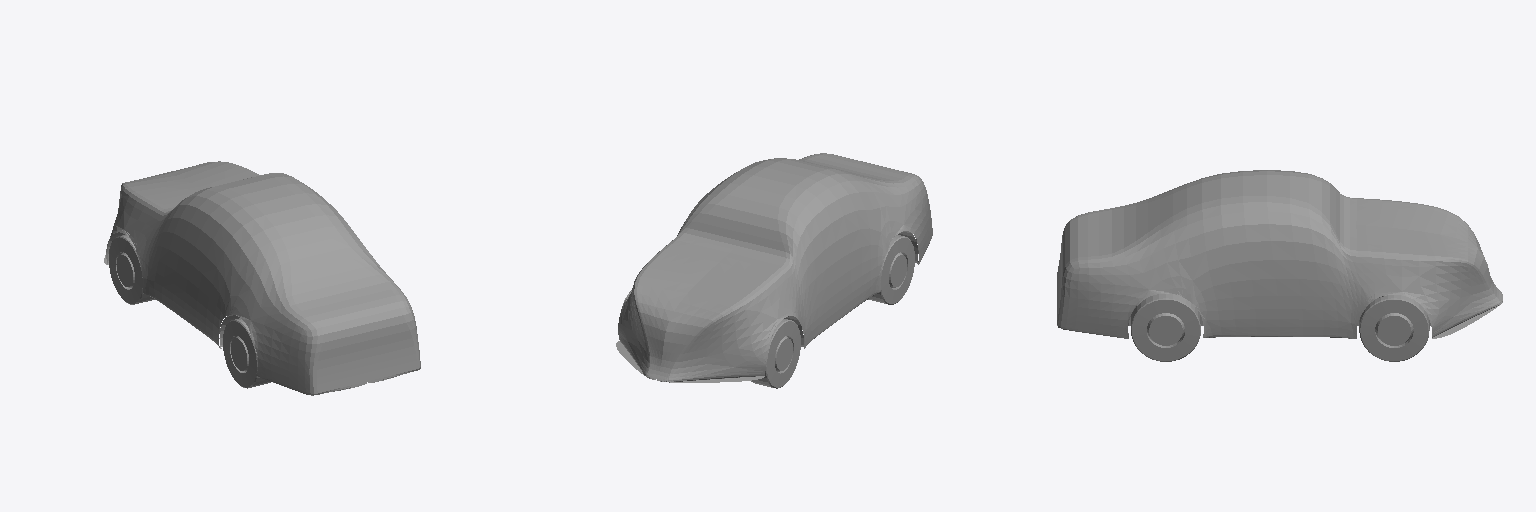
The model's file is car.obj.
The picture shows the model from 3 angles: view 1: azimuth 30°, elevation 25°; view 2: azimuth 150°, elevation 25°; view 3: azimuth 270°, elevation 25°; orthographic projection.
Parts seen in each view (by area): view 1: Body_Cube.001, WheelRL_Cylinder.003, WheelFL_Cylinder.001; view 2: Body_Cube.001, WheelFL_Cylinder.001, WheelRL_Cylinder.003; view 3: Body_Cube.001, WheelRR_Cylinder.002, WheelFR_Cylinder.000.
Part boxes in pixels (left/top/right/bottom): Body_Cube.001: left=104, top=161, right=420, bottom=395; WheelRL_Cylinder.003: left=223, top=318, right=270, bottom=388; WheelFL_Cylinder.001: left=109, top=235, right=155, bottom=304; Body_Cube.001: left=616, top=153, right=932, bottom=382; WheelFL_Cylinder.001: left=751, top=319, right=800, bottom=388; WheelRL_Cylinder.003: left=868, top=235, right=914, bottom=304; Body_Cube.001: left=1057, top=170, right=1502, bottom=338; WheelRR_Cylinder.002: left=1131, top=294, right=1200, bottom=361; WheelFR_Cylinder.000: left=1359, top=295, right=1429, bottom=361.
Size of the model in its own units: 0.1683 by 0.1518 by 0.4348.